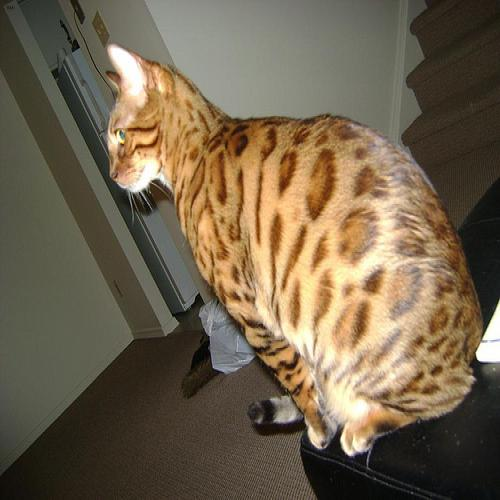cat-face: (93, 38, 187, 201)
